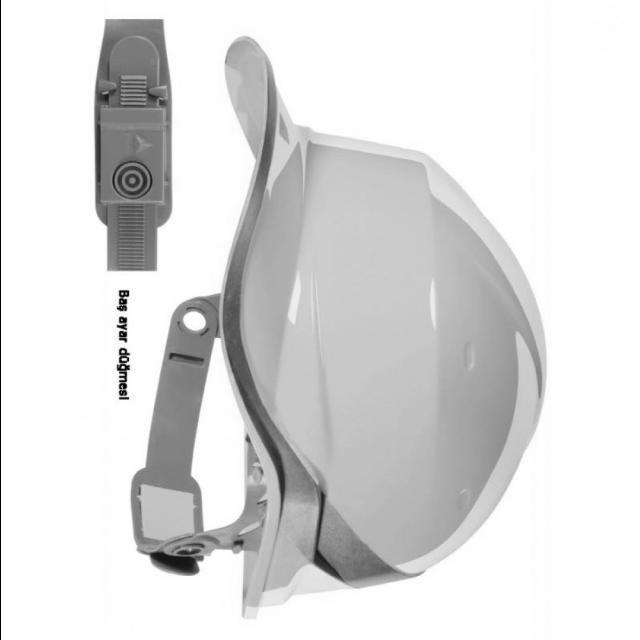safety_helmet: (138, 36, 546, 620)
